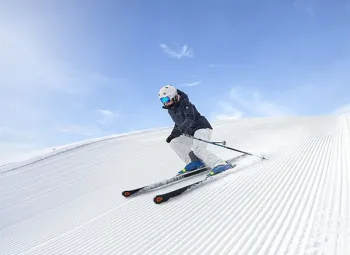skier: (107, 80, 278, 205)
